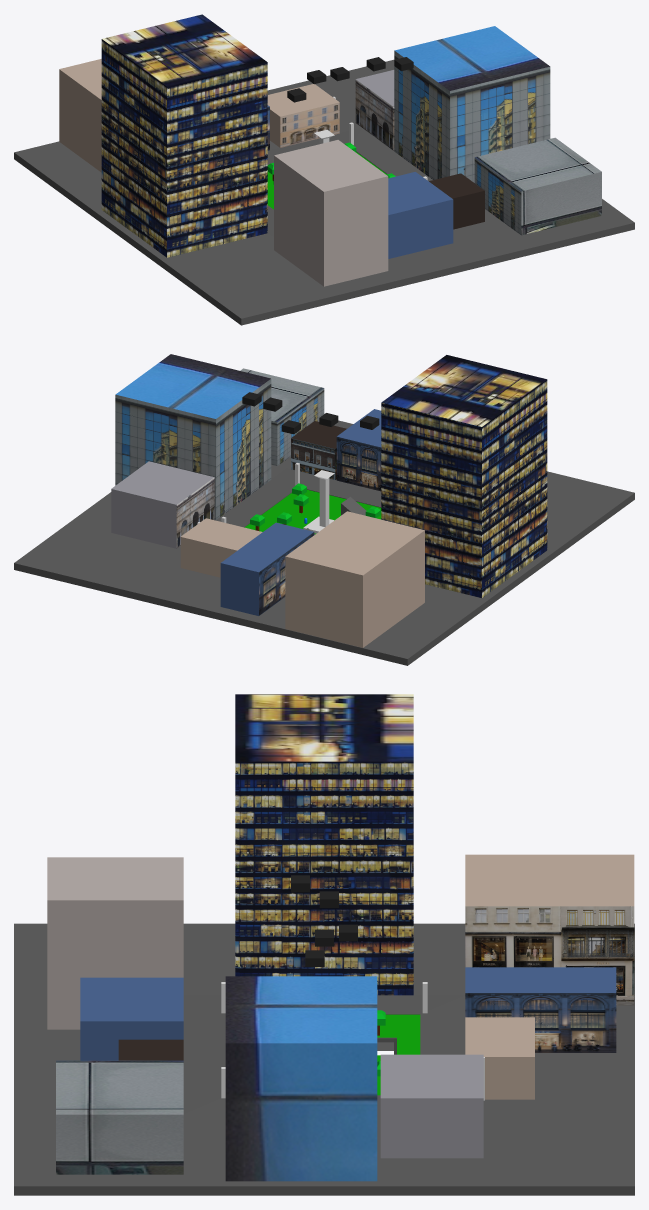
File: mapa.fbx
3 renders of one model, top to bottom at view 1: azimuth 30°, elevation 25°; view 2: azimuth 150°, elevation 25°; view 3: azimuth 270°, elevation 25°, orthographic. The views are drawn at different scales.
Parts seen in each view (by area): view 1: Cube.001, Cube, Cube.008, Cube.002, Cube.015, Cube.003, Cube.005, Cube.007, Cube.009, Cube.004; view 2: Cube.001, Cube, Cube.008, Cube.005, Cube.009, Cube.006, Cube.015, Cube.007, Cube.003, Cube.004, Cube.029, Cube.028; view 3: Cube, Cube.001, Cube.008, Cube.005, Cube.002, Cube.015, Cube.009, Cube.006, Cube.003, Cube.007, Cube.029, Cube.004.
Part boxes in pixels (bbox=[...]): Cube.001: bbox=[101, 14, 267, 257]; Cube: bbox=[14, 59, 634, 325]; Cube.008: bbox=[394, 26, 550, 182]; Cube.002: bbox=[274, 140, 388, 286]; Cube.015: bbox=[474, 137, 601, 235]; Cube.003: bbox=[388, 172, 453, 258]; Cube.005: bbox=[59, 59, 101, 172]; Cube.007: bbox=[267, 84, 339, 147]; Cube.009: bbox=[355, 70, 394, 150]; Cube.004: bbox=[429, 173, 484, 229]; Cube.001: bbox=[381, 355, 547, 597]; Cube: bbox=[14, 420, 634, 665]; Cube.008: bbox=[115, 354, 271, 520]; Cube.005: bbox=[285, 511, 424, 647]; Cube.009: bbox=[111, 461, 214, 548]; Cube.006: bbox=[220, 522, 314, 615]; Cube.015: bbox=[240, 368, 324, 465]; Cube.007: bbox=[180, 518, 262, 577]; Cube.003: bbox=[336, 409, 381, 491]; Cube.004: bbox=[291, 421, 346, 479]; Cube.029: bbox=[244, 489, 381, 534]; Cube.028: bbox=[314, 470, 334, 526]; Cube: bbox=[14, 923, 634, 1195]; Cube.001: bbox=[235, 694, 413, 995]; Cube.008: bbox=[225, 976, 377, 1181]; Cube.005: bbox=[465, 854, 634, 1005]; Cube.002: bbox=[47, 857, 183, 1029]; Cube.015: bbox=[56, 1060, 183, 1174]; Cube.009: bbox=[380, 1054, 483, 1158]; Cube.006: bbox=[465, 967, 616, 1052]; Cube.003: bbox=[80, 977, 183, 1060]; Cube.007: bbox=[465, 1017, 534, 1099]; Cube.029: bbox=[377, 1014, 420, 1095]; Cube.004: bbox=[118, 1039, 183, 1060].
Size of the model in its own units: 12953 by 5594 by 12953.
